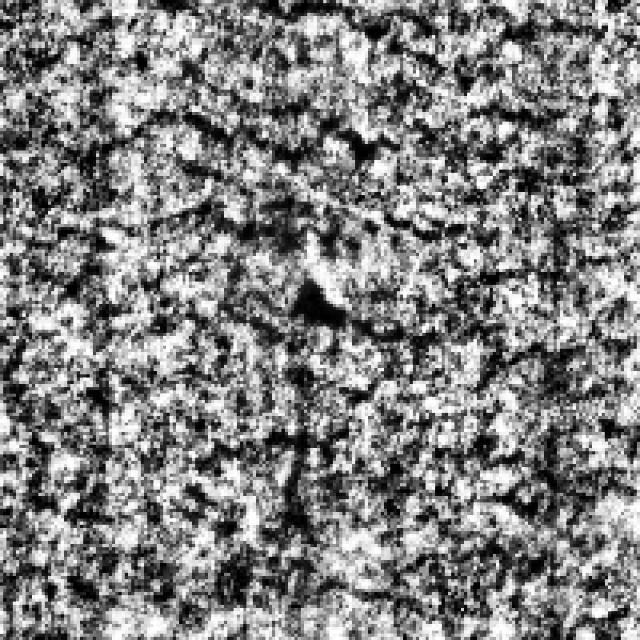Pitted_Surface: (0, 0, 448, 157), (0, 339, 378, 515)
